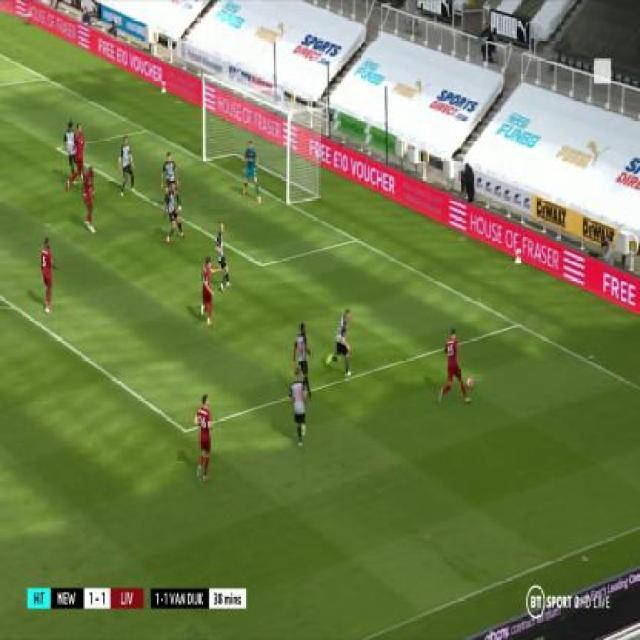ball: (466, 377, 475, 390)
player: (438, 325, 472, 408), (324, 307, 355, 381), (192, 393, 214, 482), (286, 368, 309, 447), (37, 238, 59, 320), (291, 321, 314, 397), (65, 125, 87, 190), (243, 137, 263, 208), (214, 221, 233, 294), (116, 134, 136, 199), (163, 185, 185, 242), (199, 254, 216, 327), (162, 152, 182, 214), (82, 163, 98, 234), (63, 118, 76, 187)
